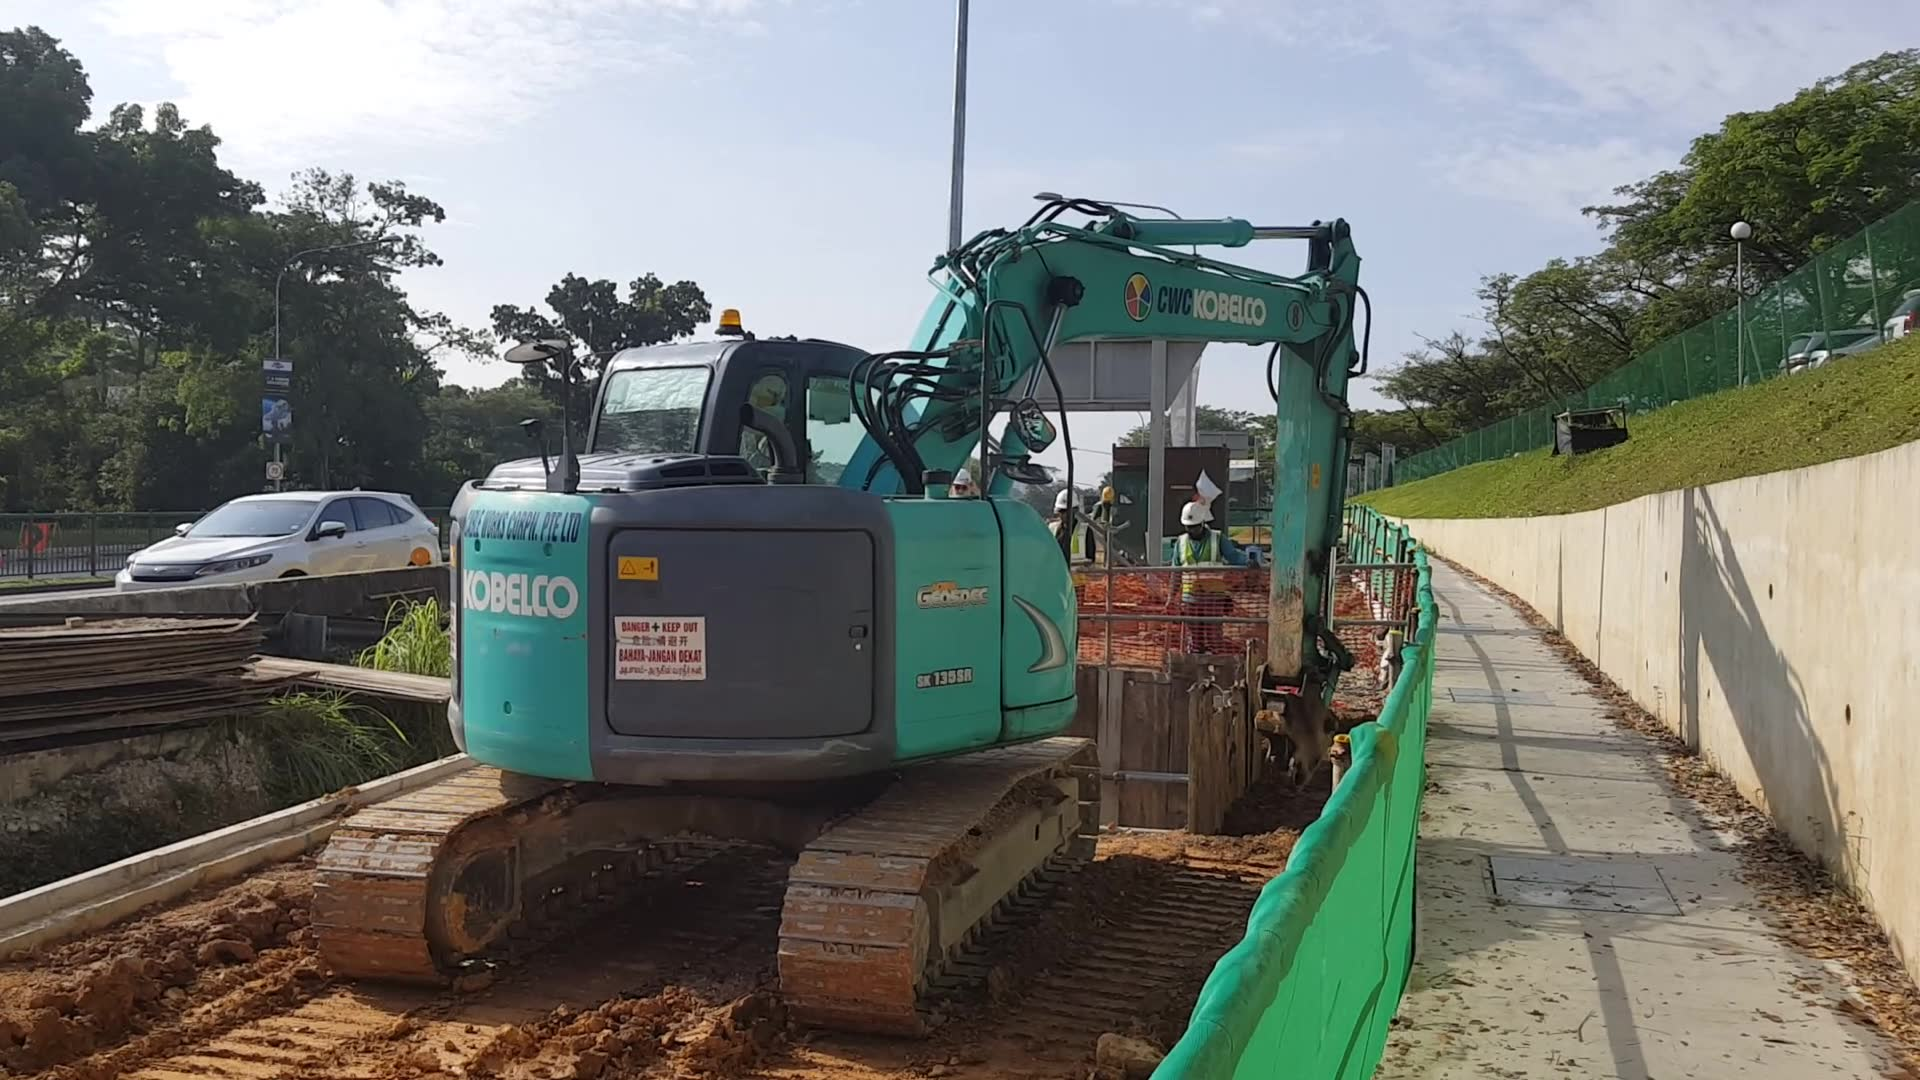cabin: (414, 309, 1072, 785)
forearm: (1255, 223, 1364, 675)
upperarm: (843, 218, 1333, 492)
wheelbase: (311, 735, 1092, 1042)
